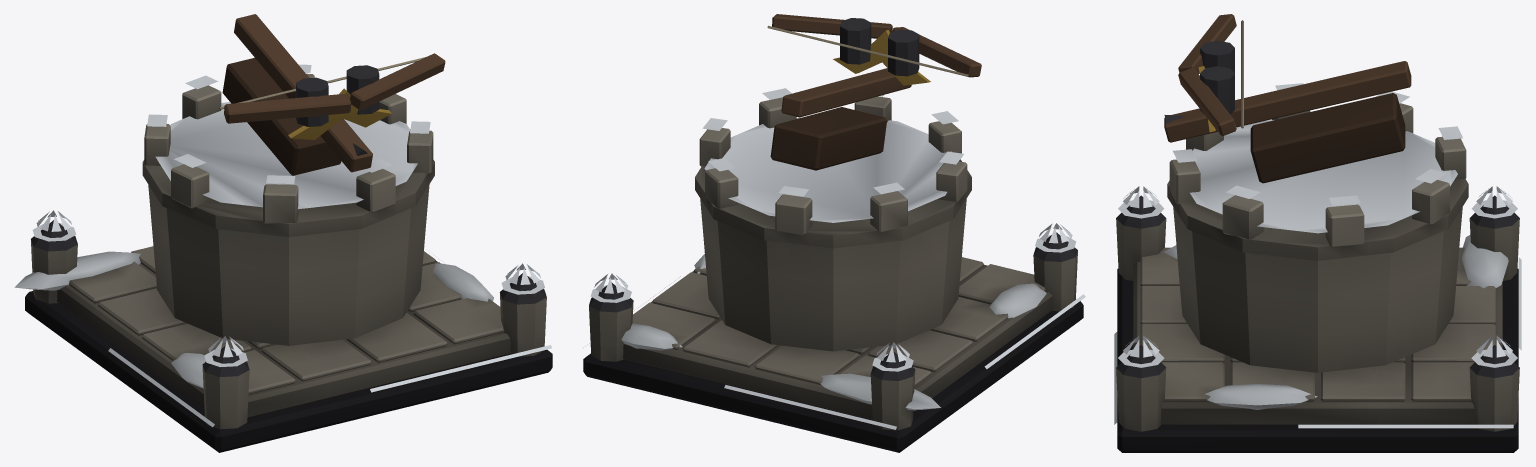
Rendered from alliance-4.glb.
The picture shows the model from 3 angles, left to right: view 1: azimuth 30°, elevation 25°; view 2: azimuth 150°, elevation 25°; view 3: azimuth 270°, elevation 25°; orthographic projection. The views are drawn at different scales.
Visible parts, largest first — view 1: aubeval_4_architecture, Tourelle_peint; view 2: aubeval_4_architecture, Tourelle_peint; view 3: aubeval_4_architecture, Tourelle_peint.
Part boxes in pixels (box(x1,y1,x2,y2)): aubeval_4_architecture: box(14, 64, 552, 452); Tourelle_peint: box(219, 14, 445, 175); aubeval_4_architecture: box(583, 88, 1085, 452); Tourelle_peint: box(767, 14, 981, 170); aubeval_4_architecture: box(1114, 83, 1521, 452); Tourelle_peint: box(1164, 14, 1411, 183).
Bounding box in the file's own units: 0.8655 × 0.68 × 0.811.
